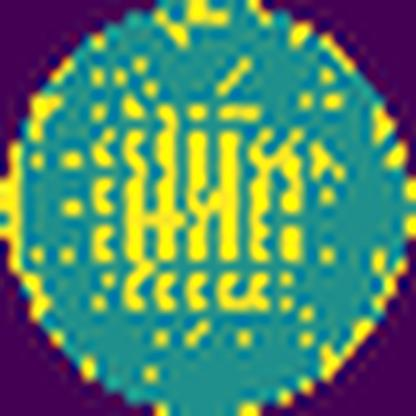Center: (89, 97, 305, 314)
